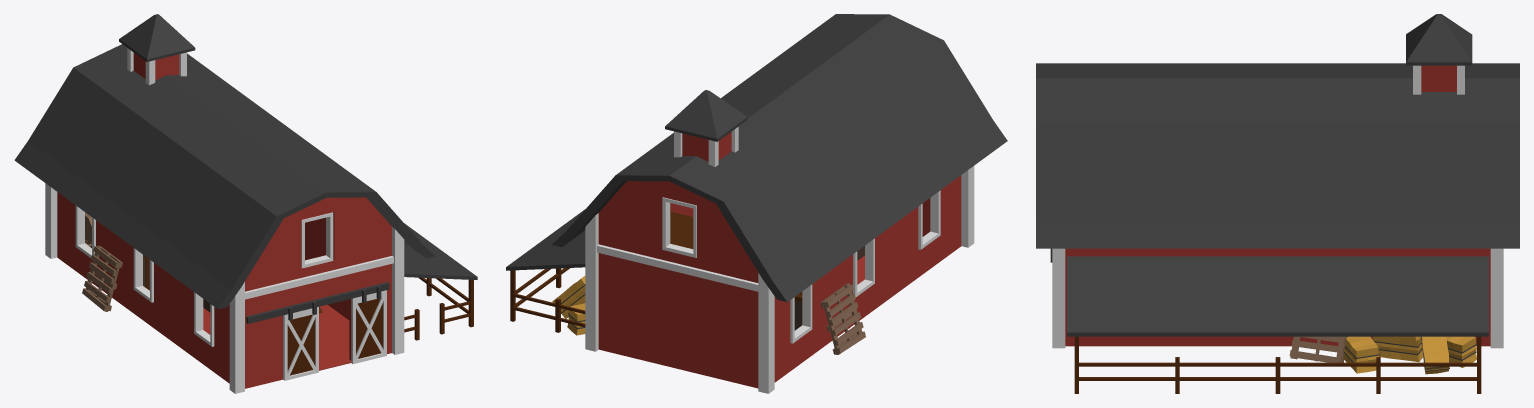
Rendered from barn.fbx.
The picture shows the model from 3 angles, left to right: view 1: azimuth 30°, elevation 25°; view 2: azimuth 150°, elevation 25°; view 3: azimuth 270°, elevation 25°; orthographic projection. The views are drawn at different scales.
Parts seen in each view (by area): view 1: roof, barn.001, roof.002, roof.001, pillar.002, pallet.002, pillar.003, doorSlider, outsidePlank.001, doorL, doorR, pillar (+7 smaller); view 2: roof, barn.001, roof.002, roof.001, pallet.002, pillar, pillar.001, outsidePlank, pillar.002, window.003, barn, window.001 (+4 smaller); view 3: roof, roof.001, barn.001, roof.002, plank.021, plank.022, pillar.003, pillar.001, pallet.001, hay.003, hay.004, barn (+2 smaller).
Part boxes in pixels (x1=…): roof: x1=14, y1=44, x2=434, y2=309; barn.001: x1=57, y1=192, x2=391, y2=388; roof.002: x1=119, y1=14, x2=195, y2=61; roof.001: x1=404, y1=223, x2=477, y2=279; pillar.002: x1=229, y1=282, x2=244, y2=393; pallet.002: x1=82, y1=245, x2=122, y2=311; pillar.003: x1=392, y1=227, x2=404, y2=354; doorSlider: x1=246, y1=282, x2=389, y2=323; outsidePlank.001: x1=245, y1=256, x2=393, y2=299; doorL: x1=287, y1=314, x2=314, y2=375; doorR: x1=356, y1=298, x2=382, y2=358; pillar: x1=45, y1=183, x2=57, y2=258; roof: x1=552, y1=14, x2=1007, y2=302; barn.001: x1=598, y1=175, x2=961, y2=388; roof.002: x1=665, y1=90, x2=747, y2=141; roof.001: x1=506, y1=209, x2=585, y2=270; pallet.002: x1=820, y1=283, x2=865, y2=354; pillar: x1=758, y1=273, x2=774, y2=393; pillar.001: x1=585, y1=213, x2=598, y2=351; outsidePlank: x1=597, y1=244, x2=758, y2=291; pillar.002: x1=961, y1=166, x2=974, y2=247; window.003: x1=662, y1=197, x2=696, y2=257; barn: x1=682, y1=132, x2=731, y2=161; window.001: x1=918, y1=190, x2=940, y2=249; roof: x1=1036, y1=63, x2=1519, y2=248; roof.001: x1=1067, y1=256, x2=1488, y2=336; barn.001: x1=1065, y1=248, x2=1490, y2=346; roof.002: x1=1406, y1=14, x2=1472, y2=65; plank.021: x1=1079, y1=362, x2=1476, y2=366; plank.022: x1=1079, y1=377, x2=1476, y2=380; pillar.003: x1=1052, y1=248, x2=1065, y2=348; pillar.001: x1=1490, y1=248, x2=1503, y2=348; pallet.001: x1=1289, y1=336, x2=1347, y2=362; hay.003: x1=1372, y1=336, x2=1423, y2=362; hay.004: x1=1343, y1=336, x2=1379, y2=373; barn: x1=1421, y1=65, x2=1456, y2=91.
Size of the model in its own units: 1709 by 1436 by 2208.
